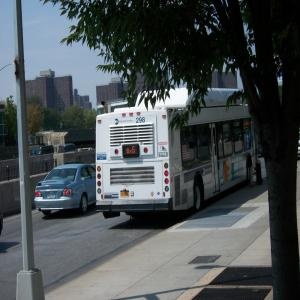Vehicle-registration-plate: (48, 192, 57, 201), (121, 191, 130, 198)
